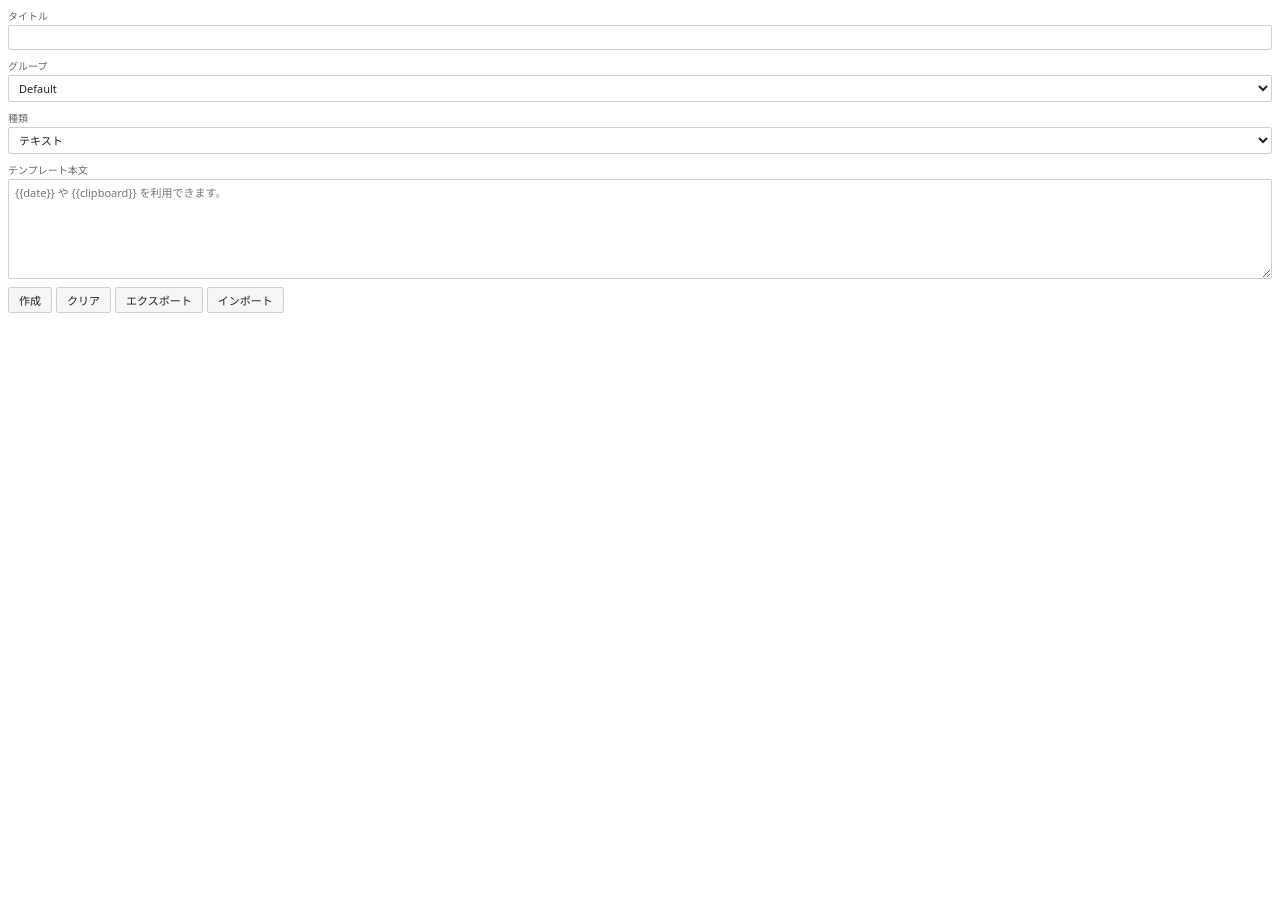
Test: TemplateEditor › import dialog › opens import dialog when Import JSON is clicked
Click the button "インポート" at point(245, 300), box [207,287,284,313]
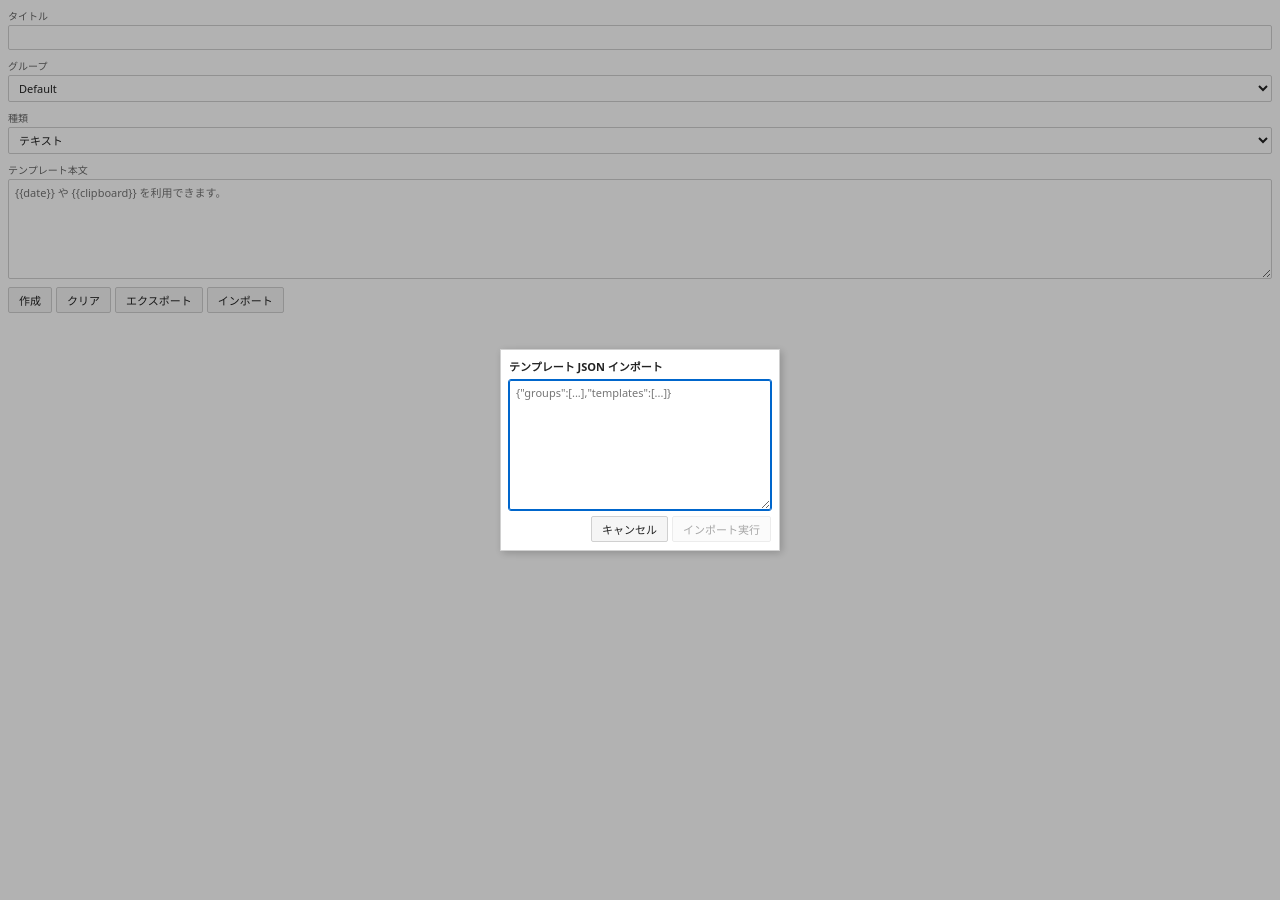
Expected: the text "テンプレート JSON インポート" is shown, [509,359,663,374]
